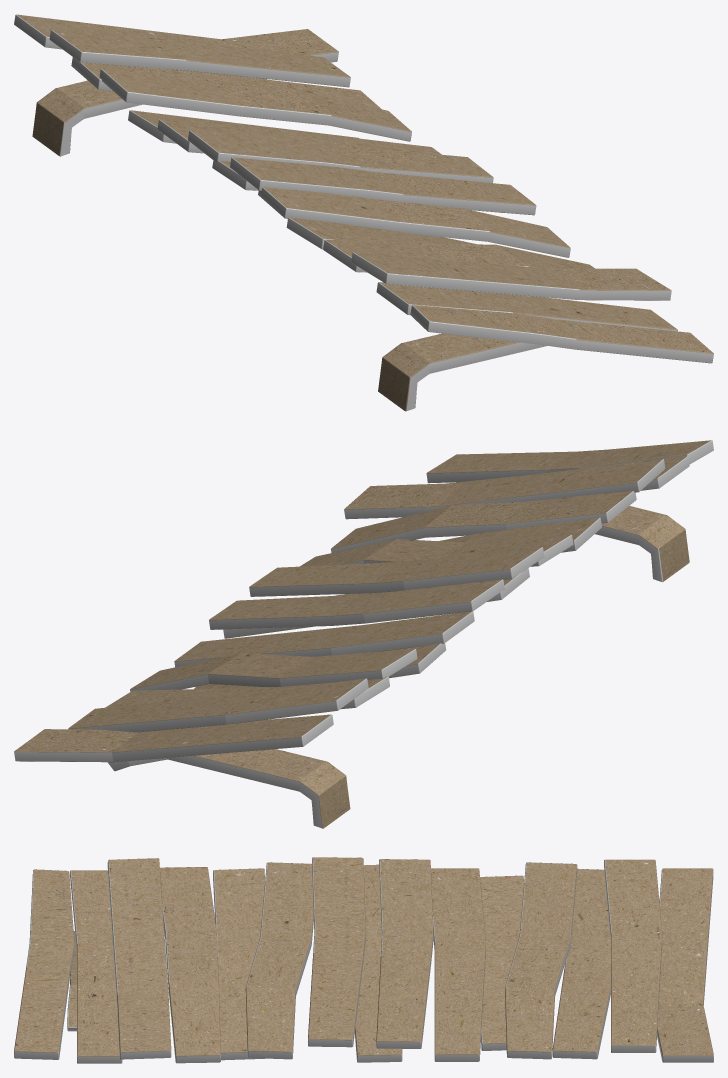
File: SM_Roof01.FBX
The picture shows the model from 3 angles, top to bottom: view 1: azimuth 30°, elevation 25°; view 2: azimuth 150°, elevation 25°; view 3: azimuth 270°, elevation 25°; orthographic projection. The views are drawn at different scales.
Visible parts, largest first — view 1: SM_Roof01; view 2: SM_Roof01; view 3: SM_Roof01.
Part boxes in pixels (bbox=[...]): SM_Roof01: bbox=[14, 14, 713, 411]; SM_Roof01: bbox=[14, 440, 713, 828]; SM_Roof01: bbox=[14, 857, 713, 1063].
Size of the model in its own units: 3.34 by 1.36 by 8.33.
